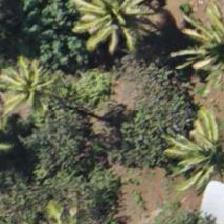coconut_tree: (0, 38, 73, 128), (66, 0, 156, 63), (167, 108, 223, 198)
